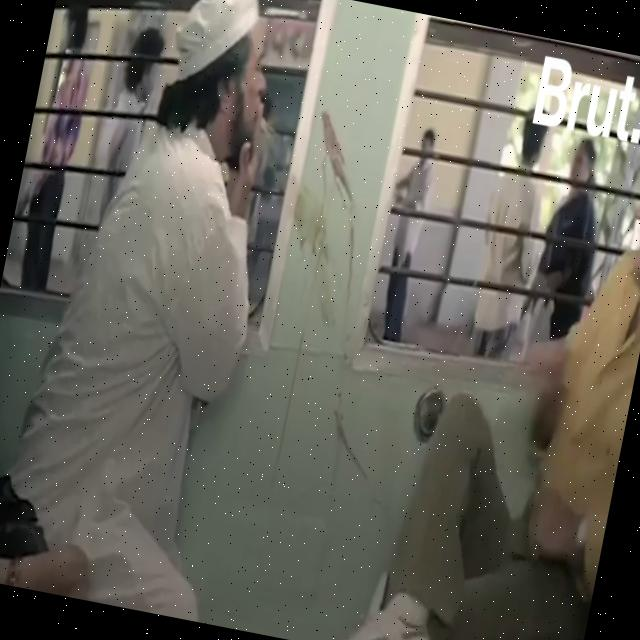spit: (232, 60, 339, 307), (322, 268, 385, 510), (311, 88, 371, 236)
